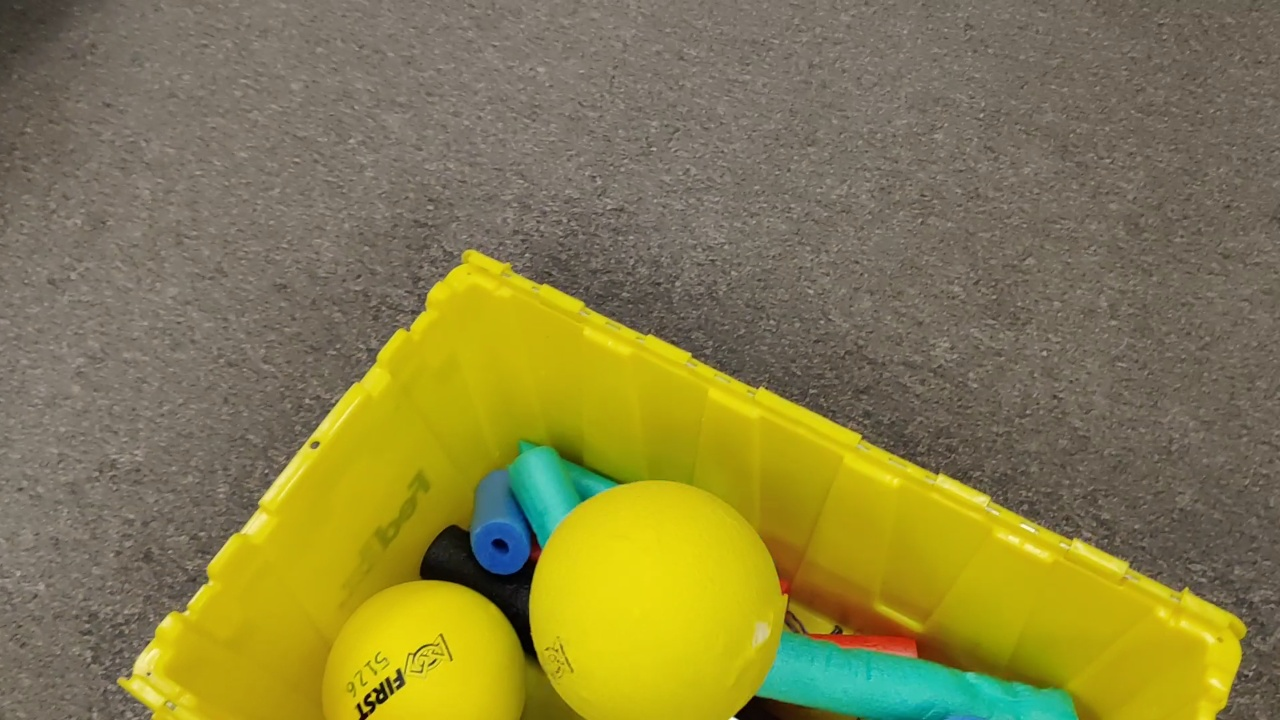Ball: (526, 480, 785, 720), (323, 577, 528, 720)
